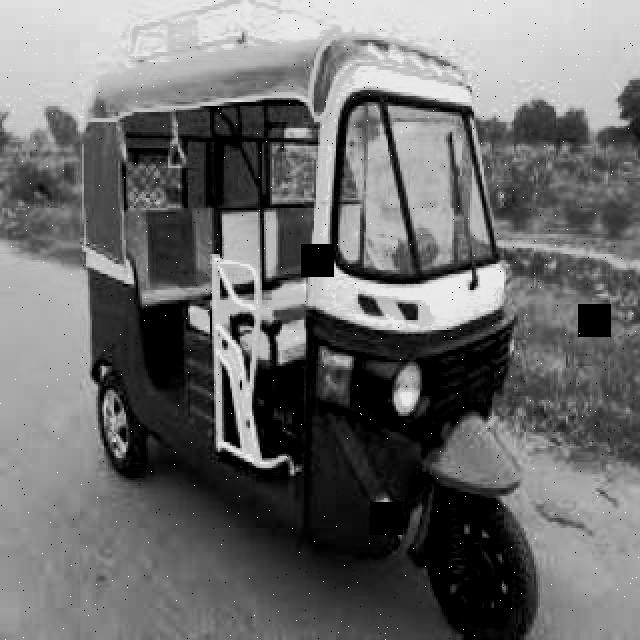Auto-Rickshaw: (62, 46, 564, 640)
